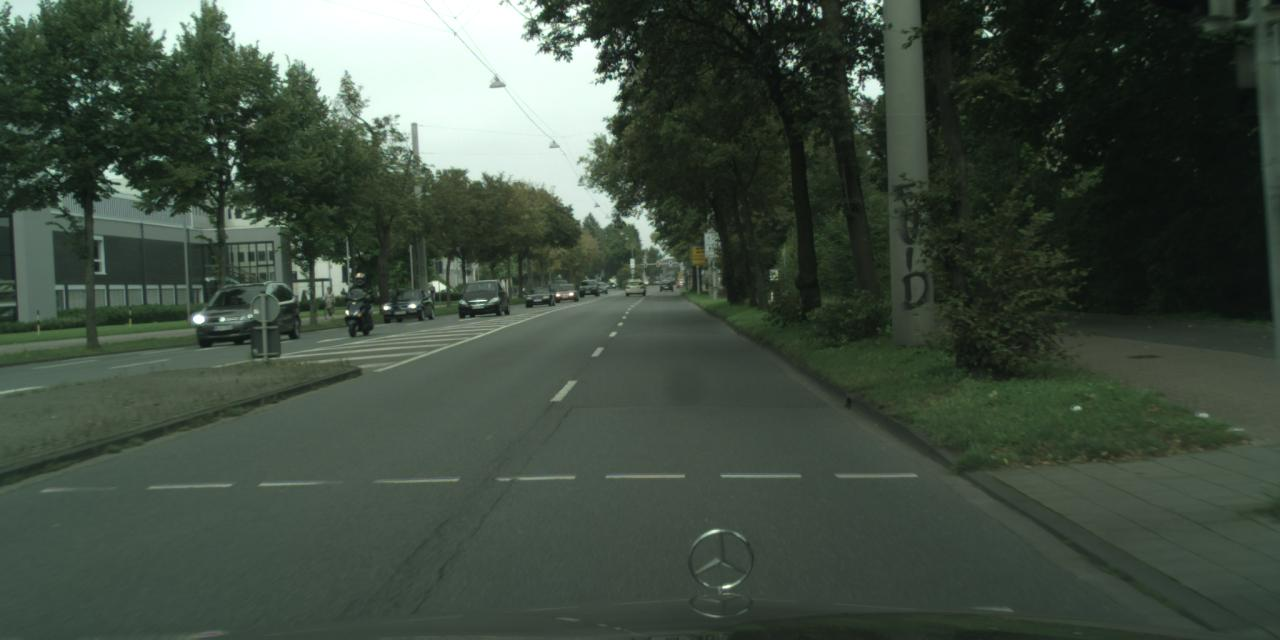ped: (348, 271, 370, 327), (324, 286, 335, 315), (428, 283, 436, 304)
